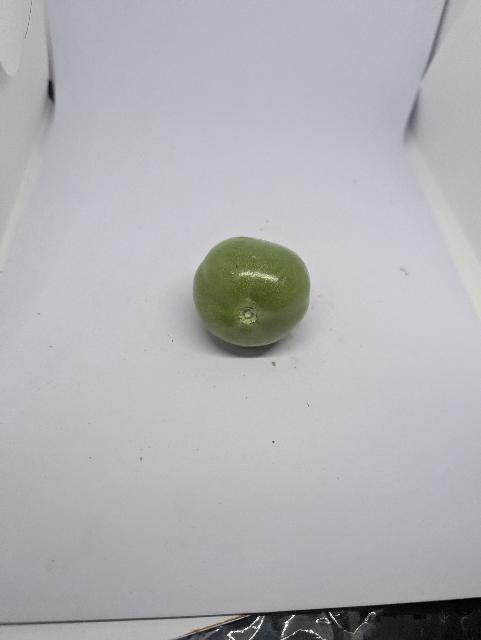green: (190, 234, 315, 349)
